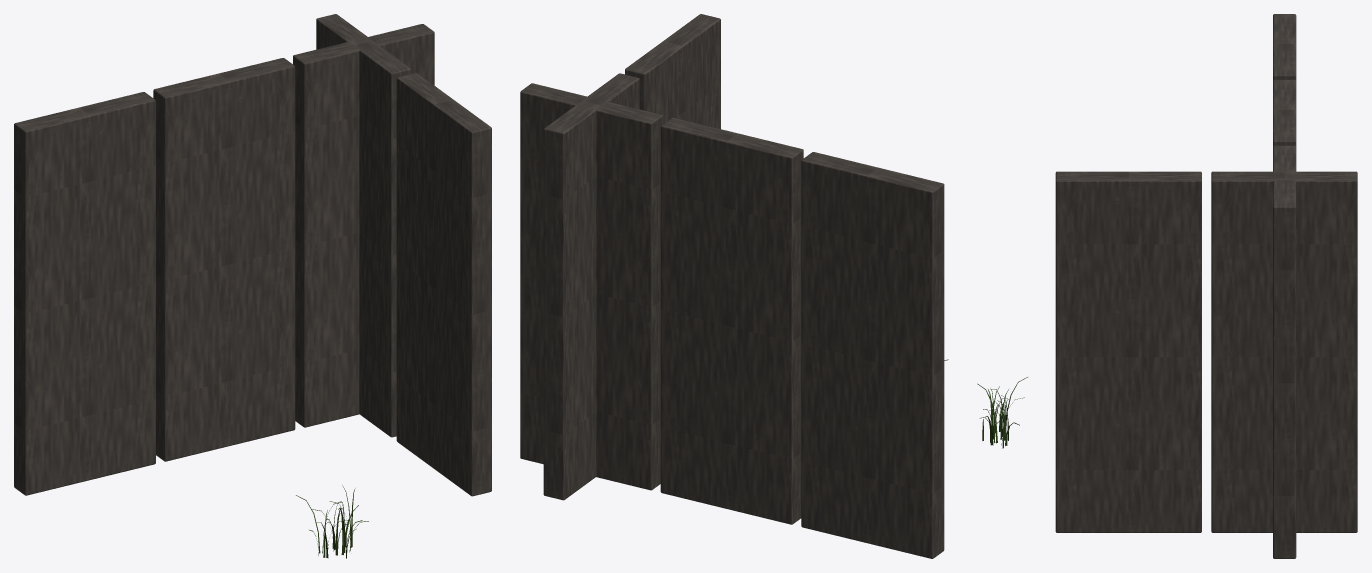
Rendered from SM_Env_Tile_p2_m3.fbx.
3 views of the same model, side by side, from view 1: azimuth 30°, elevation 25°; view 2: azimuth 150°, elevation 25°; view 3: azimuth 270°, elevation 25° (orthographic). The views are drawn at different scales.
Parts seen in each view (by area): view 1: SM_Env_Tile_p2_m3; view 2: SM_Env_Tile_p2_m3; view 3: SM_Env_Tile_p2_m3.
Boxes of the visible parts, box(x1,y1,x2,y2) form: SM_Env_Tile_p2_m3: box(14, 14, 491, 558); SM_Env_Tile_p2_m3: box(520, 14, 948, 558); SM_Env_Tile_p2_m3: box(977, 14, 1357, 558).
Size of what is drawn, in the model's own units: 294 by 244 by 250.
Materials: 2 (2 with a texture image).
